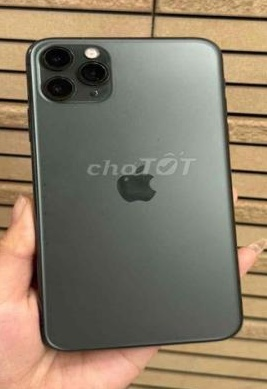scratch: (39, 40, 113, 101)
